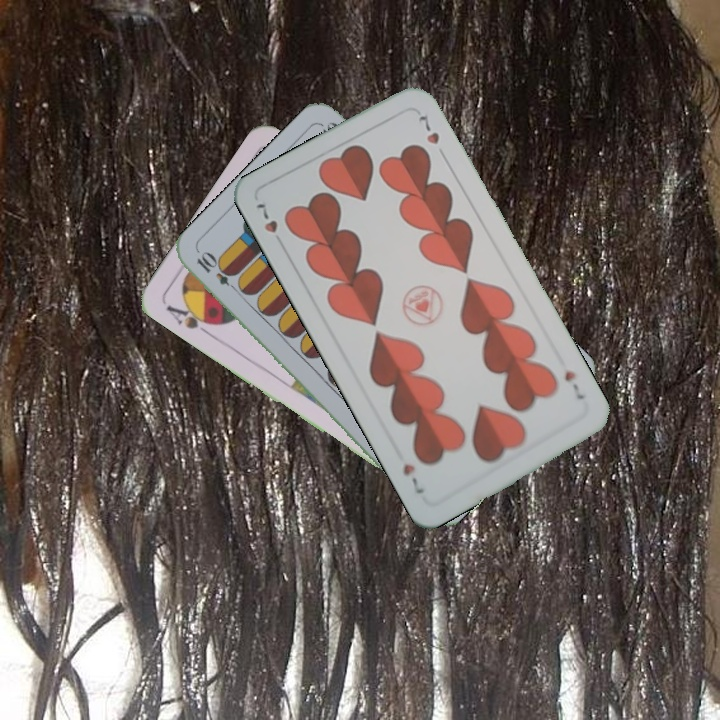E10: (192, 248, 243, 296)
H7: (252, 196, 281, 236), (560, 367, 587, 402)
SA: (162, 297, 220, 338)
